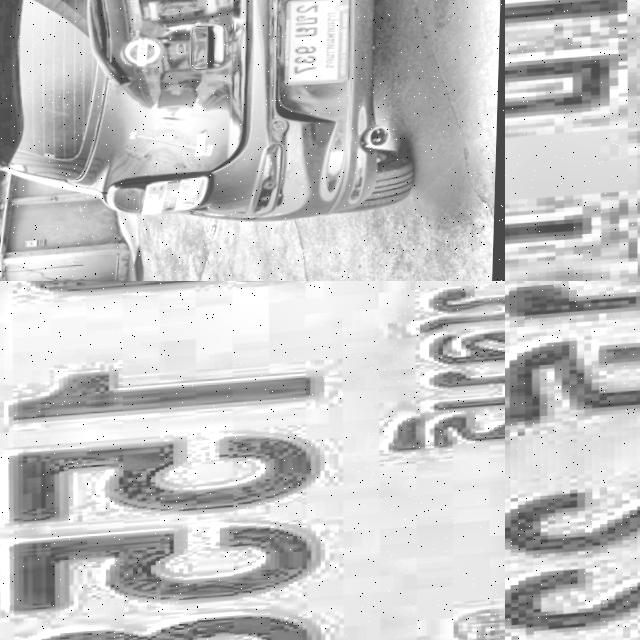license-plate: (0, 281, 505, 640), (505, 281, 640, 640), (505, 0, 640, 281), (273, 0, 355, 93)
